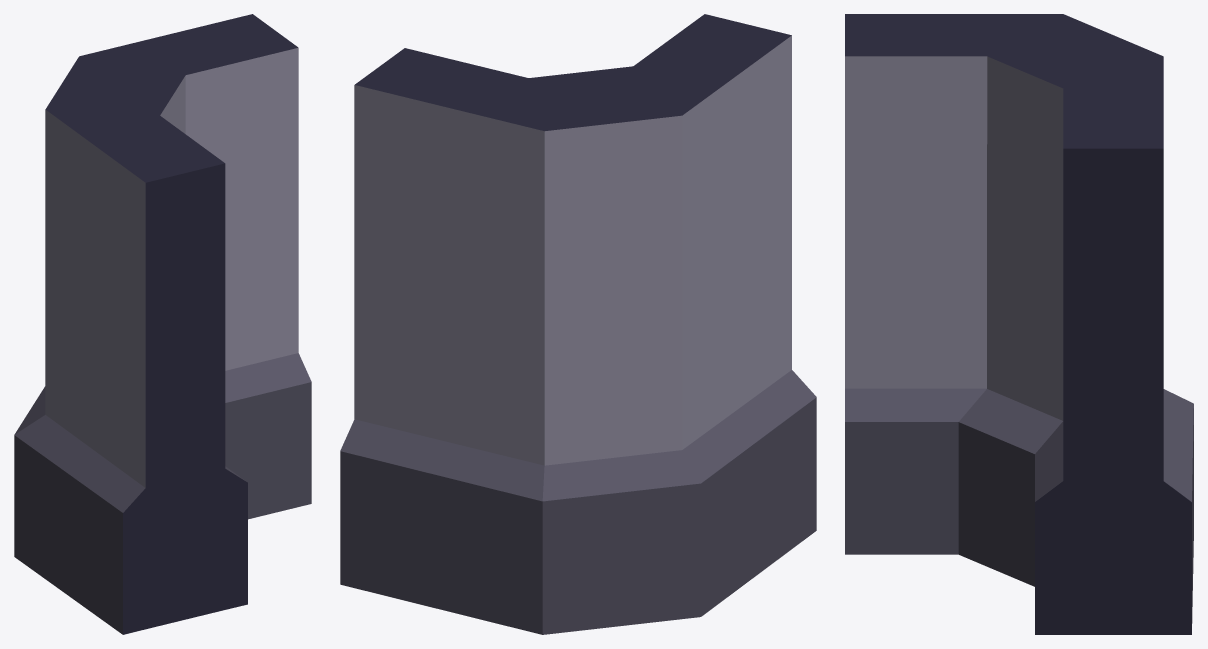
File: WallCorner.fbx
The picture shows the model from 3 angles, left to right: view 1: azimuth 30°, elevation 25°; view 2: azimuth 150°, elevation 25°; view 3: azimuth 270°, elevation 25°; orthographic projection. The views are drawn at different scales.
Parts seen in each view (by area): view 1: WallCorner; view 2: WallCorner; view 3: WallCorner.
Part boxes in pixels (x1,y1,x2,y2): WallCorner: [14, 14, 311, 634]; WallCorner: [340, 14, 816, 634]; WallCorner: [845, 14, 1193, 634].
Bounding box in the file's own units: 130 × 200 × 130.
